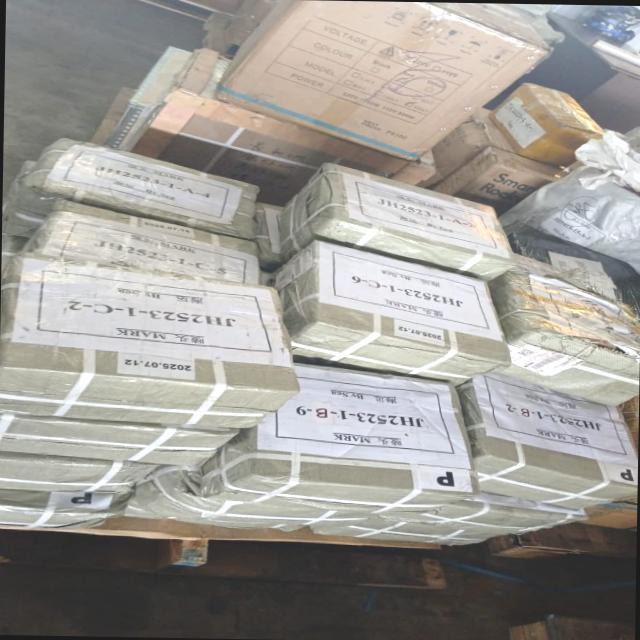carton_box: (217, 0, 548, 171)
export_mark_label: (0, 237, 311, 370), (298, 362, 496, 476), (315, 242, 524, 344)
